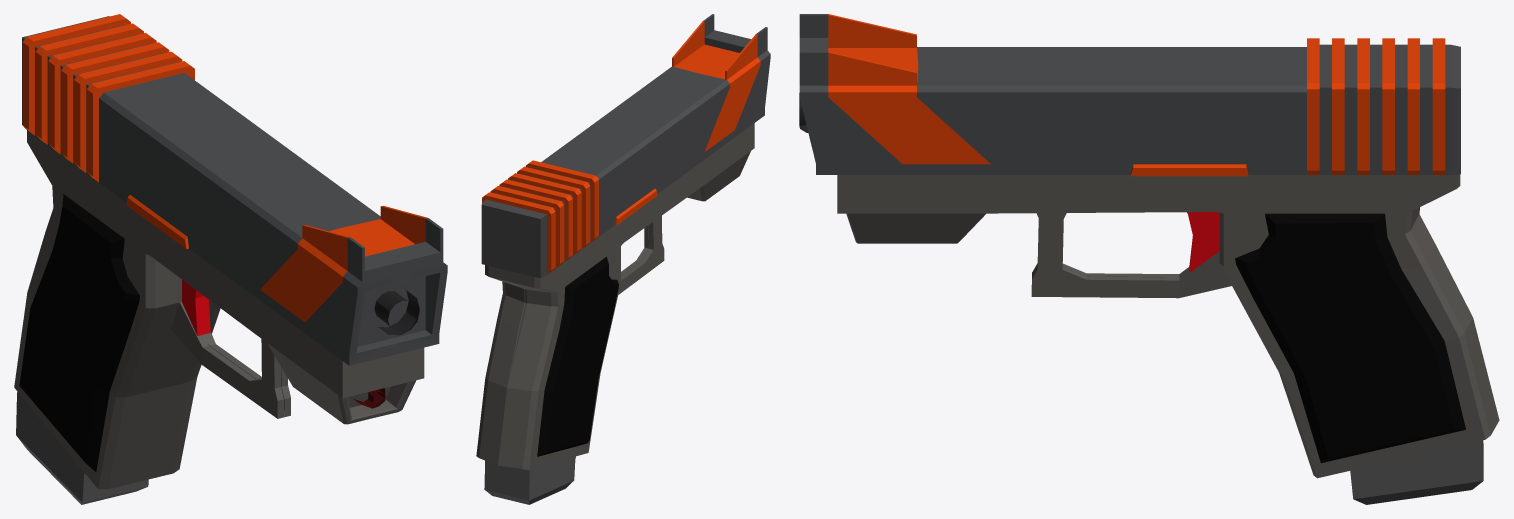
The model's file is A1 PDW blend.fbx.
3 renders of one model, left to right at view 1: azimuth 30°, elevation 25°; view 2: azimuth 150°, elevation 25°; view 3: azimuth 270°, elevation 25°, orthographic. The views are drawn at different scales.
Parts seen in each view (by area): view 1: Barrel; view 2: Barrel; view 3: Barrel.
Boxes of the visible parts, <box> form: Barrel: <box>14,14,447,504</box>; Barrel: <box>476,14,770,504</box>; Barrel: <box>799,14,1499,504</box>.
Size of the model in its own units: 0.0341 by 0.15 by 0.2065.
